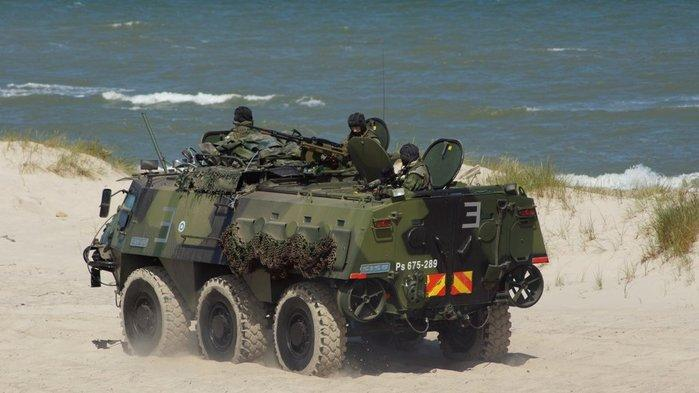MIL_IFV: (82, 104, 549, 378)
